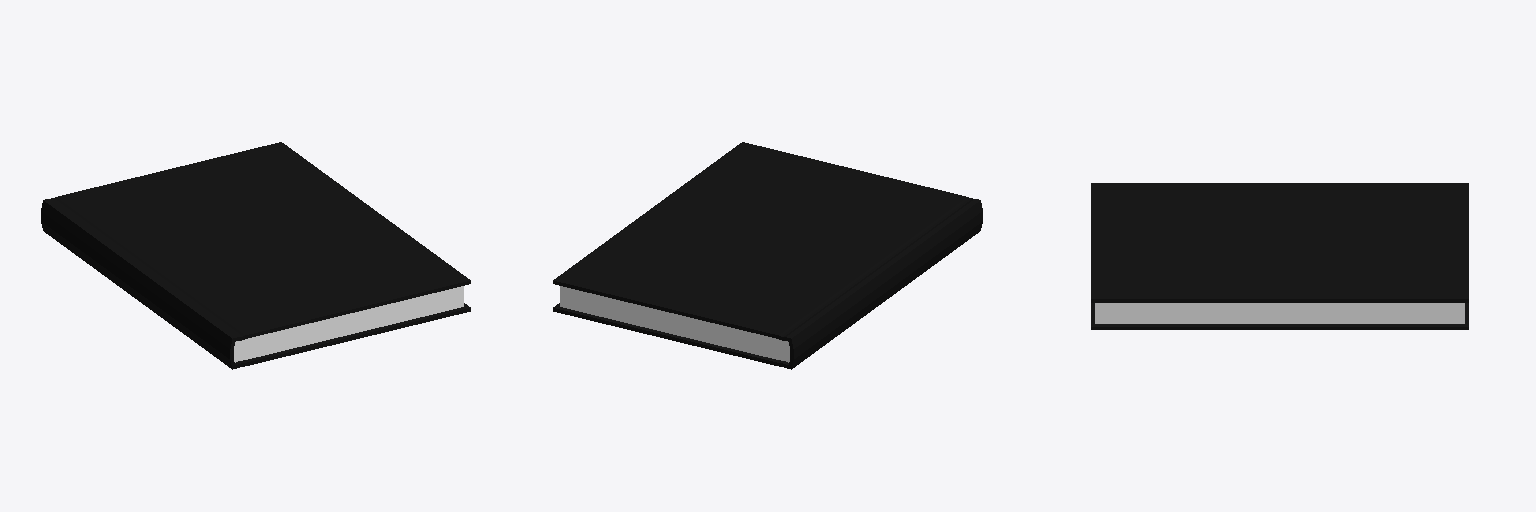
File: book_black.obj
3 renders of one model, left to right at view 1: azimuth 30°, elevation 25°; view 2: azimuth 150°, elevation 25°; view 3: azimuth 270°, elevation 25°, orthographic.
Visible parts, largest first — view 1: Architexture_Plane; view 2: Architexture_Plane; view 3: Architexture_Plane.
Part boxes in pixels (left/top/right/bottom): Architexture_Plane: left=41, top=142, right=470, bottom=369; Architexture_Plane: left=553, top=142, right=982, bottom=369; Architexture_Plane: left=1091, top=183, right=1468, bottom=329.
Bounding box in the file's own units: 0.7338 × 0.0904 × 1.